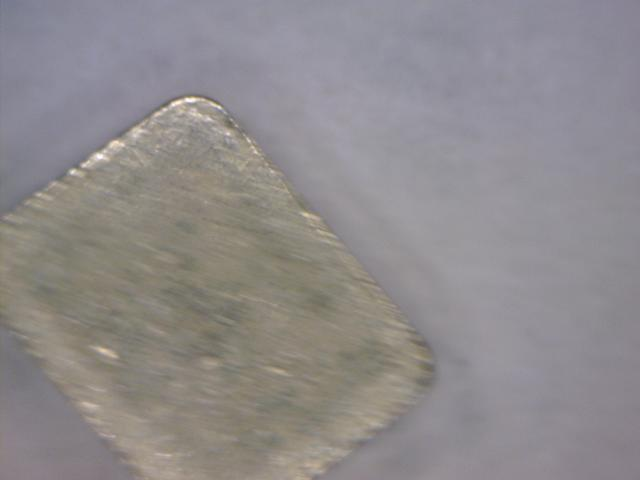ok: (3, 83, 446, 457)
